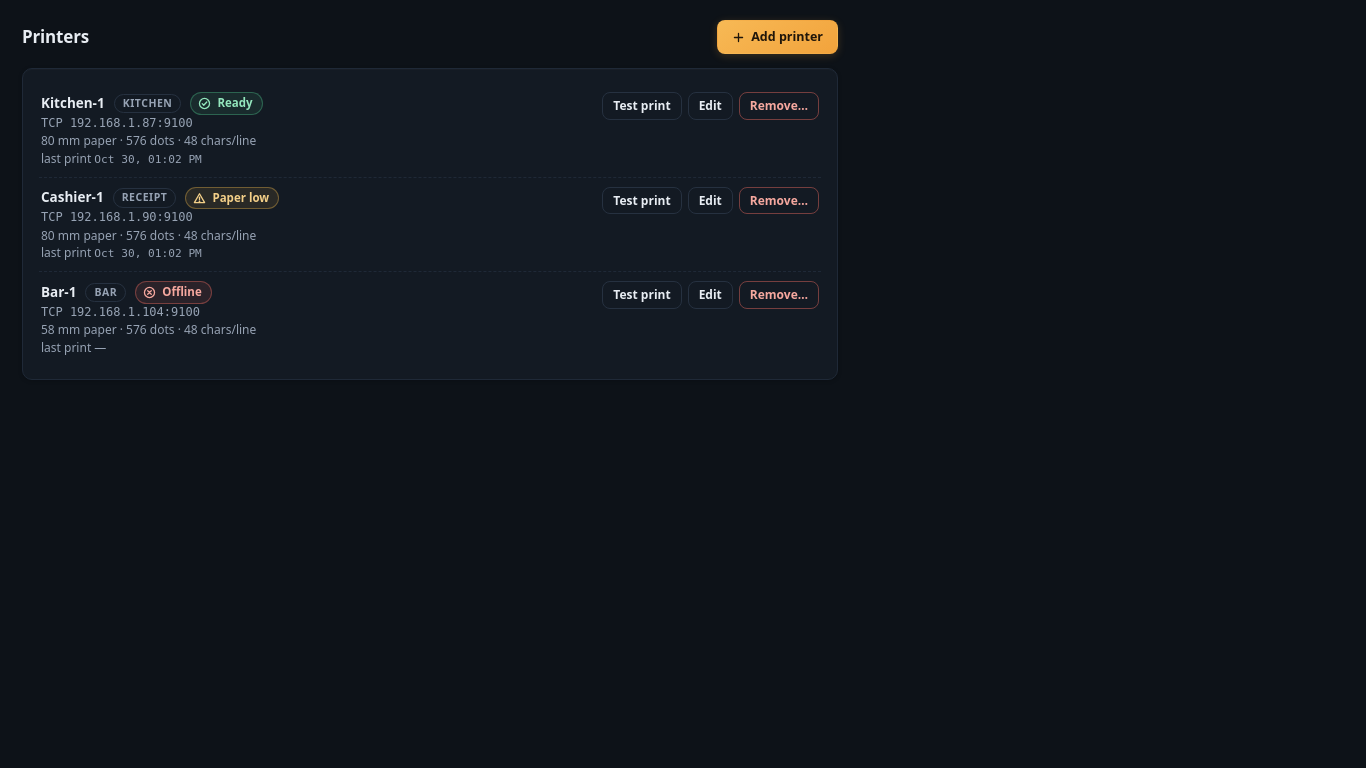
PrintersScreen › cancelling remove keeps the printer
Click the button "Remove…" in the row of "Kitchen-1" at (779, 106), box x1=739 y1=92 x2=819 y2=120
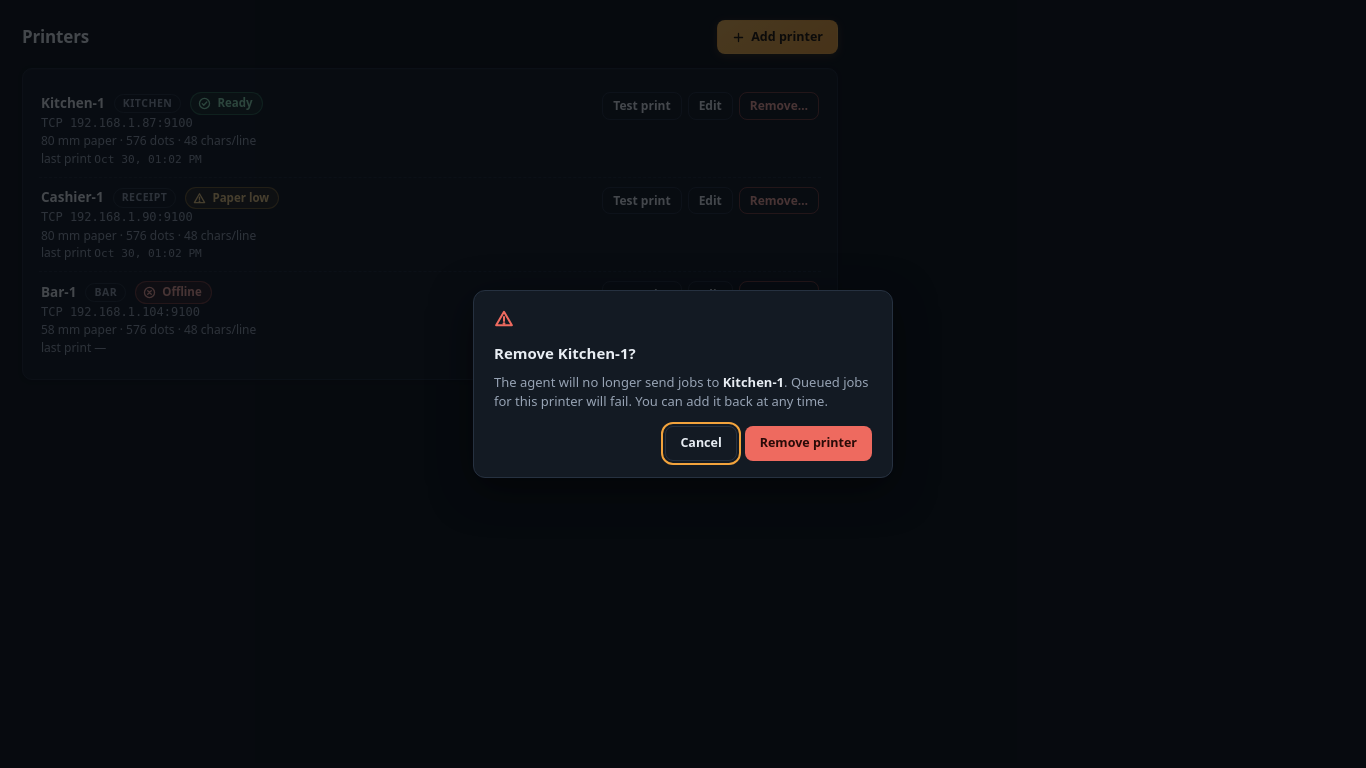
Check: the dialog shows "Kitchen-1", box x1=723 y1=373 x2=784 y2=391
Click the button "Cancel" at (701, 443), box x1=665 y1=426 x2=737 y2=460
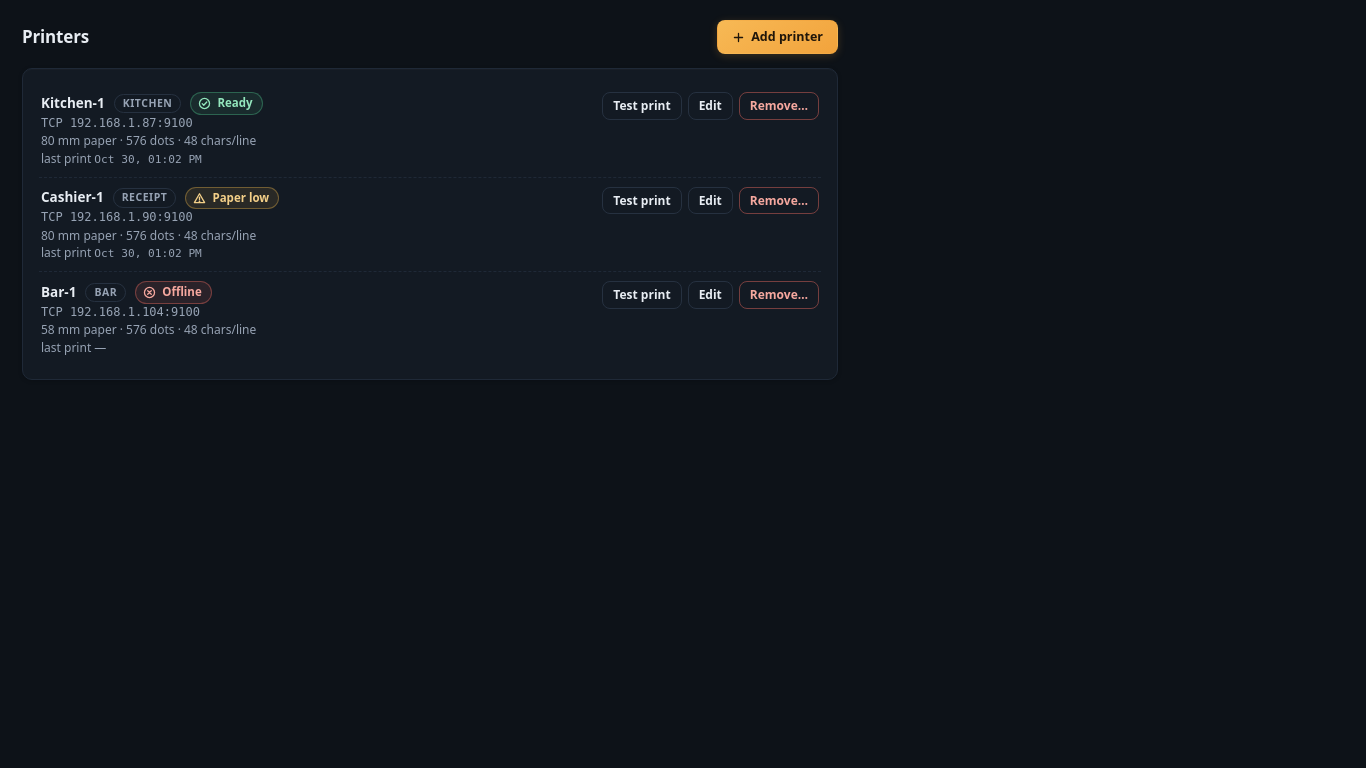
Check: the dialog is gone
